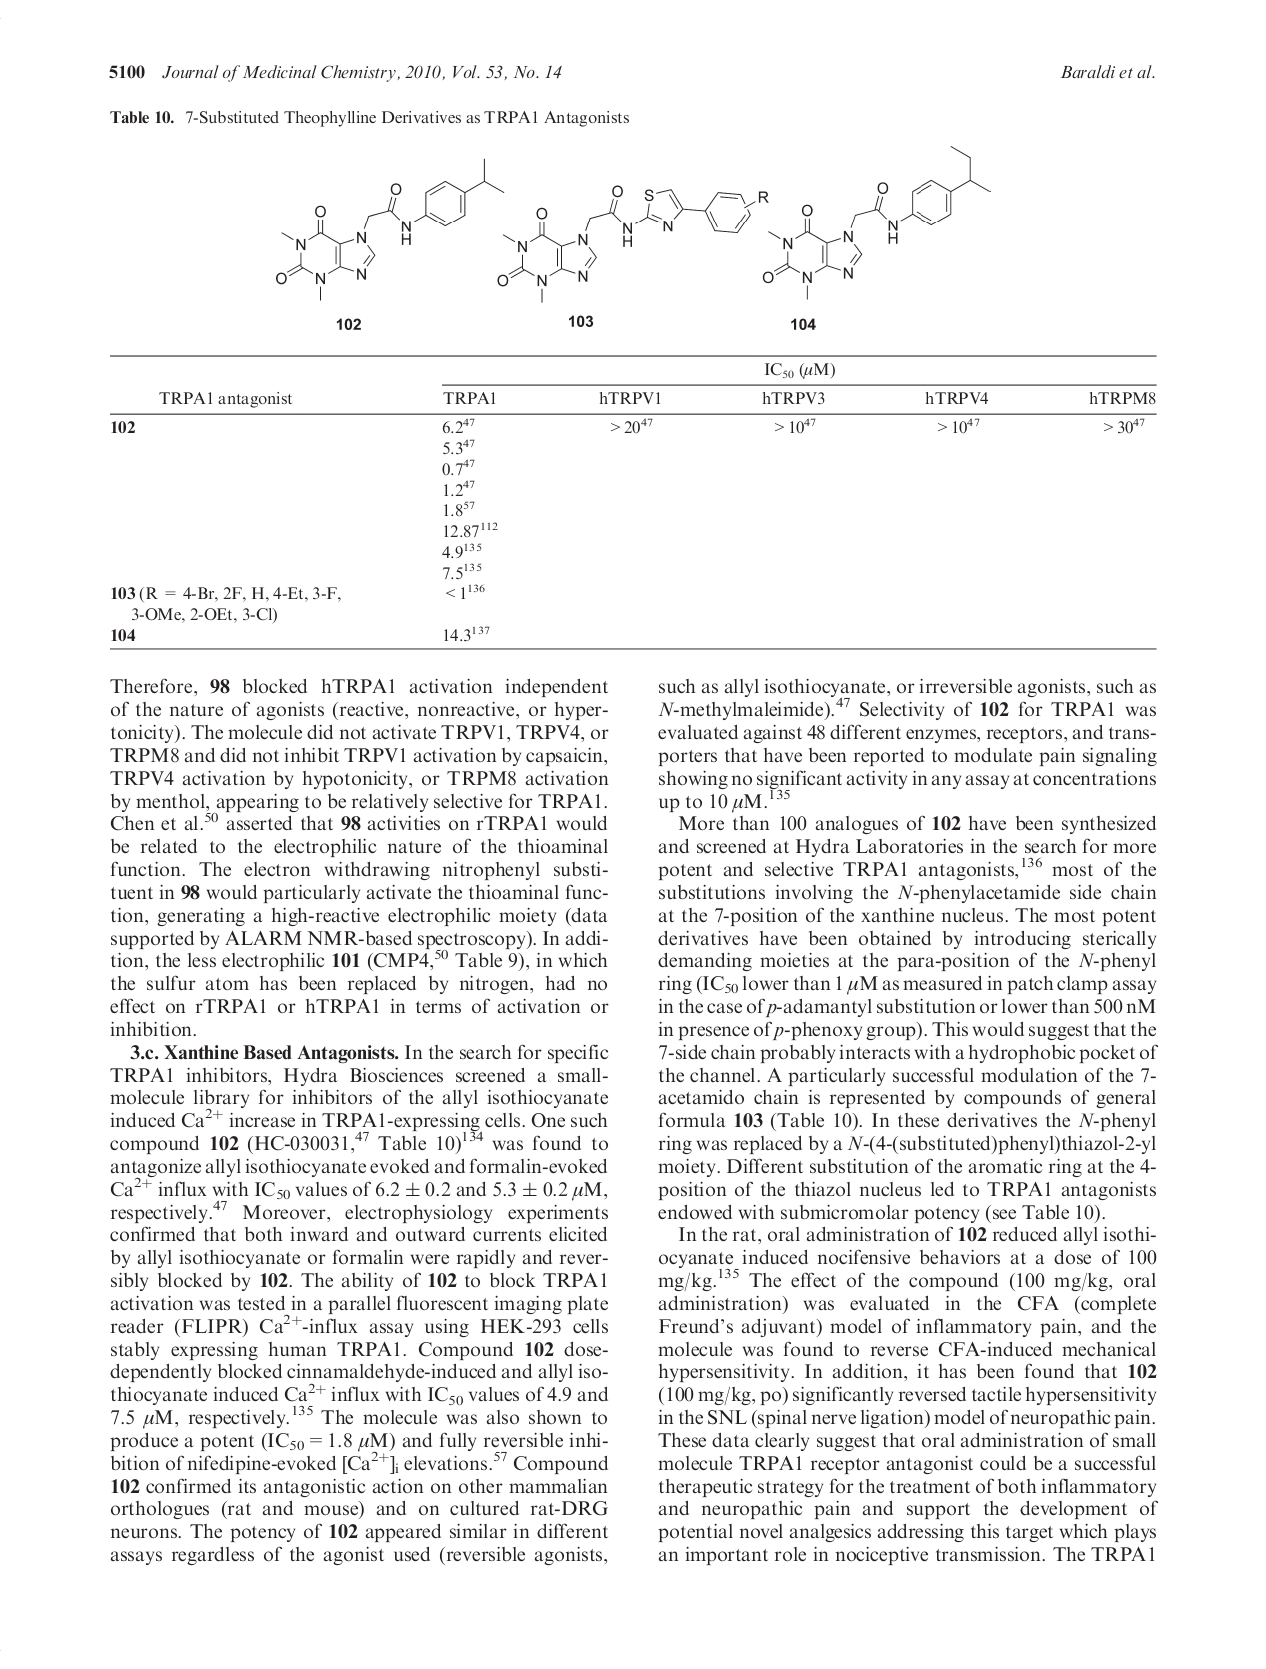exist_molecular: (762, 140, 997, 309), (271, 146, 515, 307), (485, 177, 783, 305)
